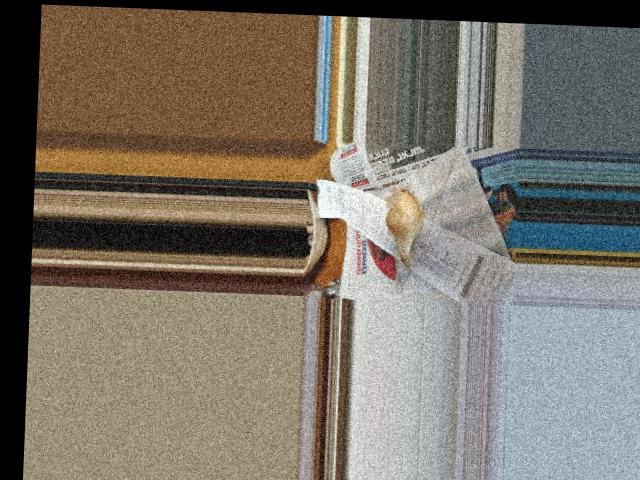onion: (384, 193, 427, 247)
